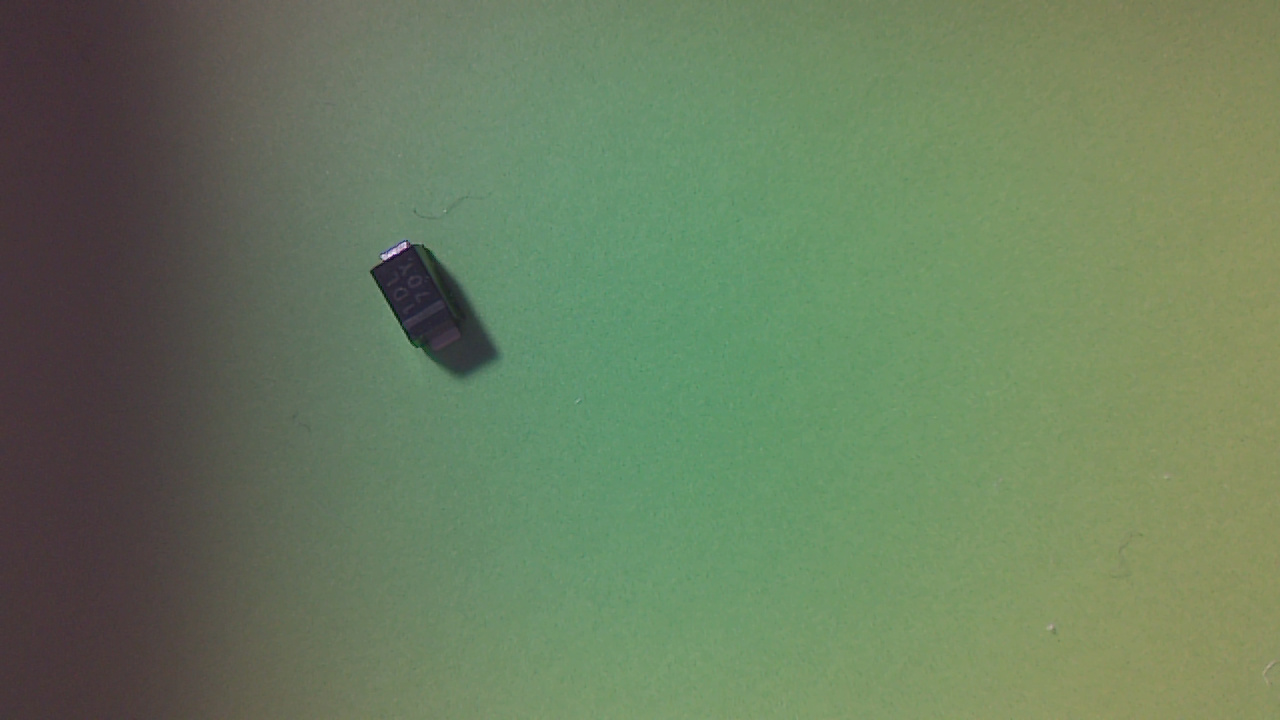Diode: (373, 245, 473, 358)
